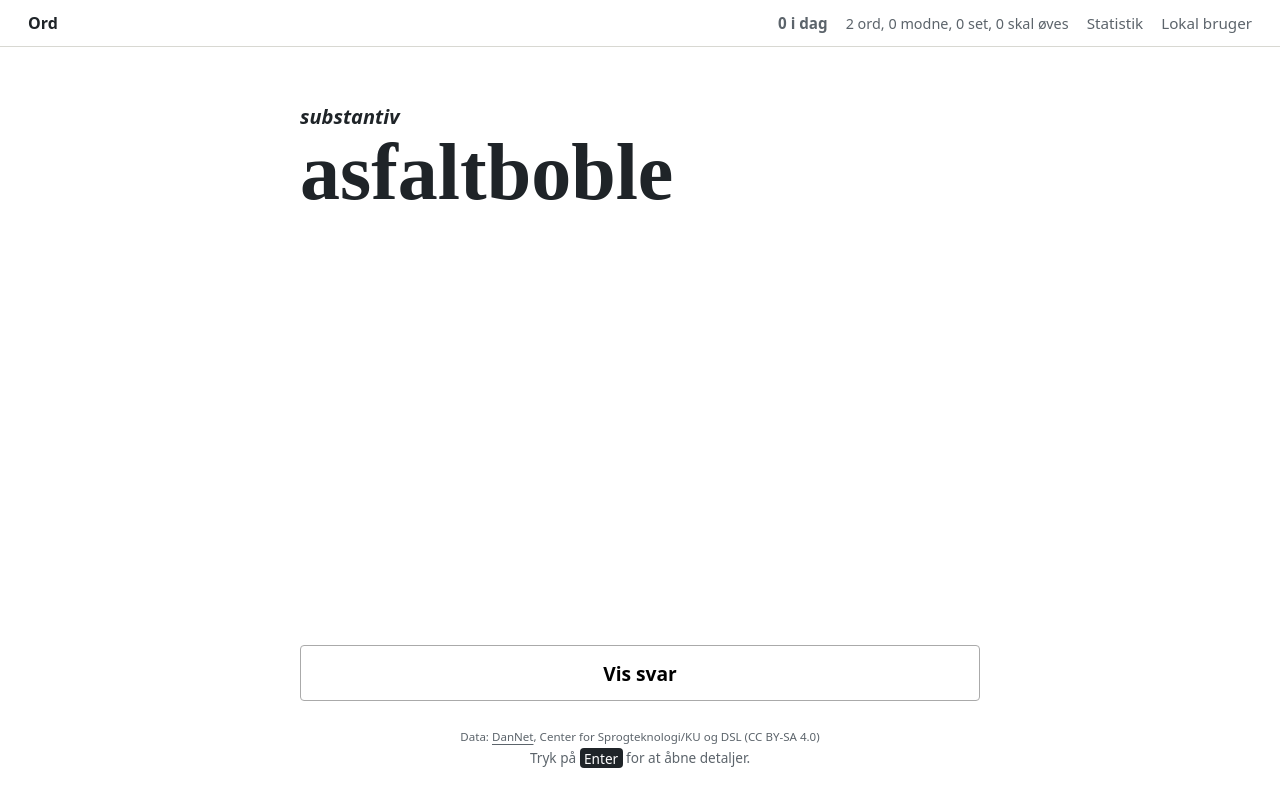
Test: Træner › afslører definitionen via Vis svar-knappen
Click the button "Vis svar" at (640, 674), box x1=300 y1=646 x2=980 y2=702
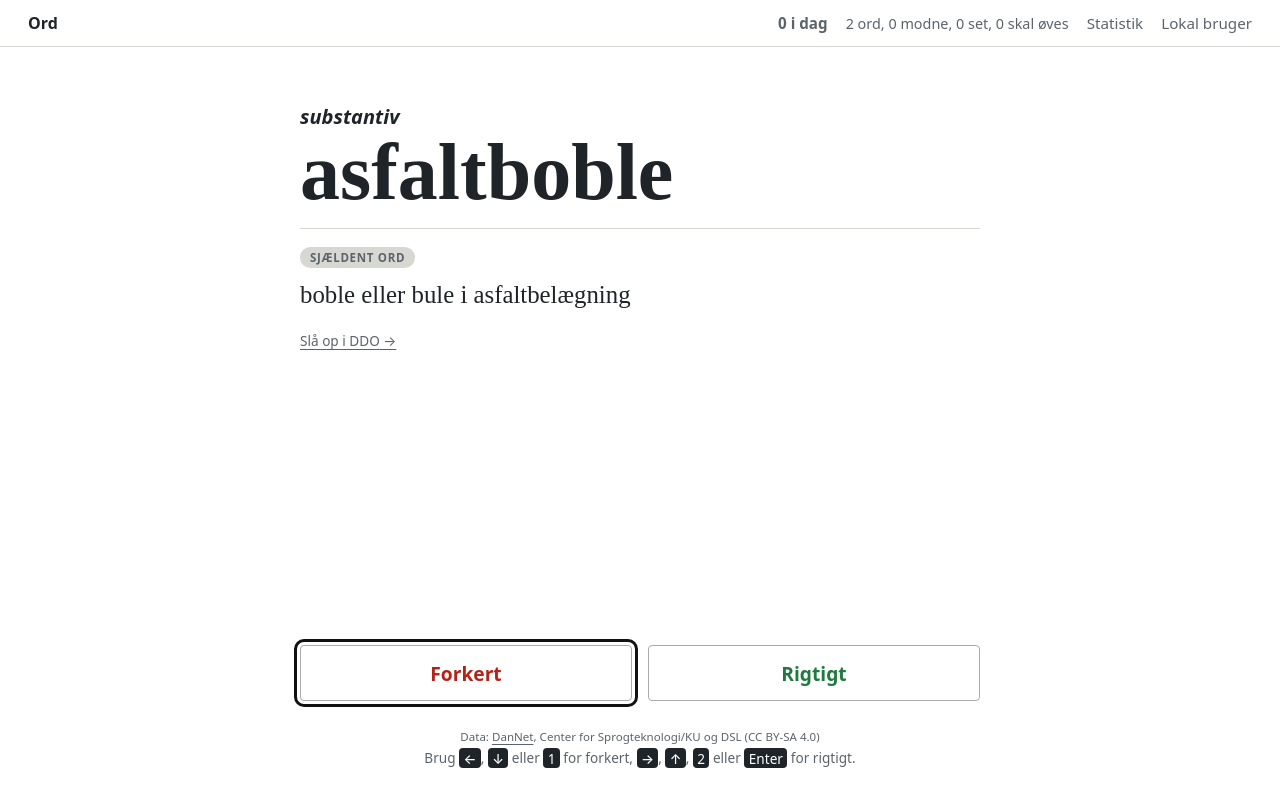
Result: the text "boble eller bule i asfaltbelægning" is shown at x1=300 y1=281 x2=630 y2=308
